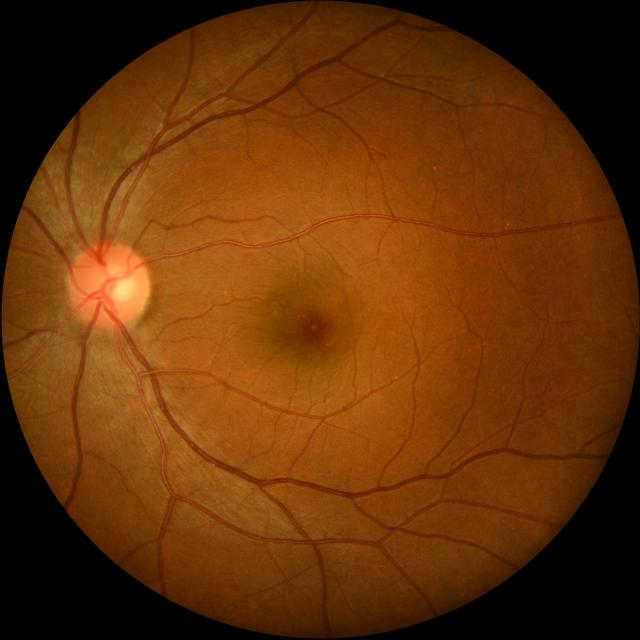OC: (100, 267, 133, 304)
OD: (67, 241, 149, 329)
